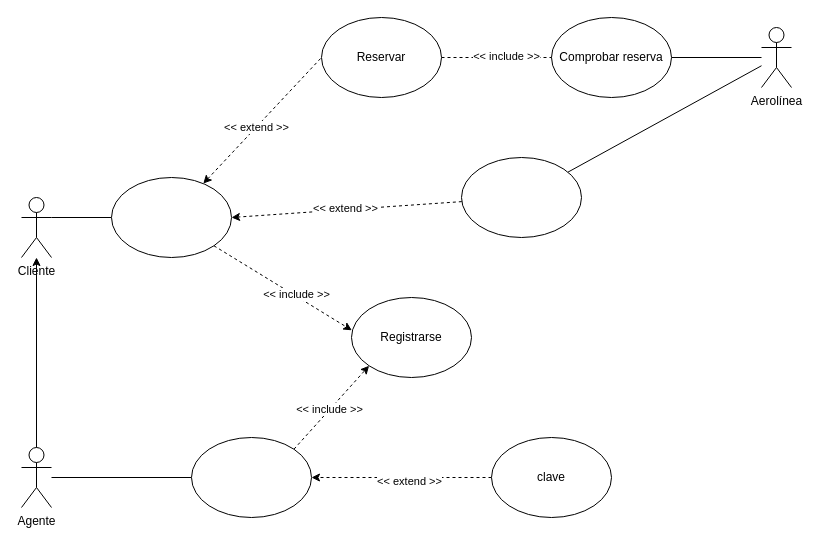
This 819x546 diagram has some shape labels left out. The shapes that lost their labels are listed below. From the top down, each one's centre as x and y in pixels, then its label:
point 171,217: Gestionar reserva
point 521,197: Cancelar
point 251,477: Gestionar cliente
